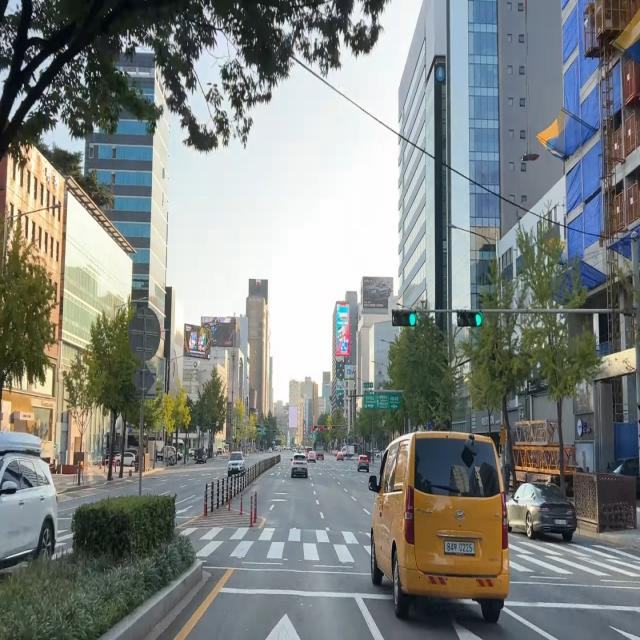Green Light: (474, 310, 483, 328), (409, 311, 417, 326)
